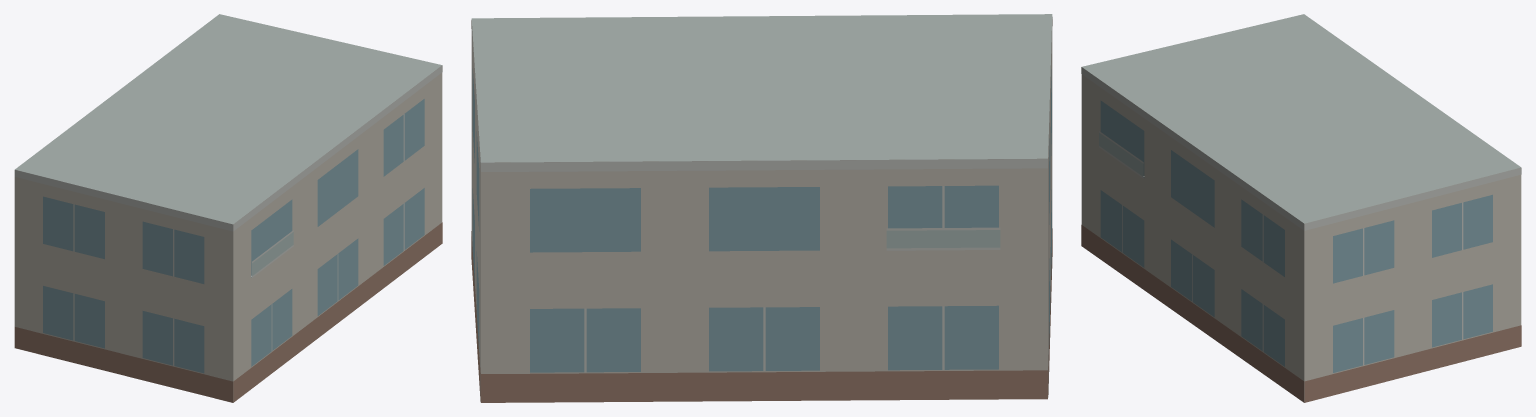
File: survey-upis-32682337.glb
The picture shows the model from 3 angles, left to right: view 1: azimuth 30°, elevation 25°; view 2: azimuth 150°, elevation 25°; view 3: azimuth 270°, elevation 25°; orthographic projection. The views are drawn at different scales.
Parts seen in each view (by area): view 1: survey-upis-32682337.tmp; view 2: survey-upis-32682337.tmp; view 3: survey-upis-32682337.tmp.
Boxes of the visible parts, x1=… form: survey-upis-32682337.tmp: x1=14, y1=14, x2=442, y2=402; survey-upis-32682337.tmp: x1=471, y1=14, x2=1052, y2=402; survey-upis-32682337.tmp: x1=1081, y1=14, x2=1521, y2=402.
Bounding box in the file's own units: 15.32 × 6.1 × 13.58.
